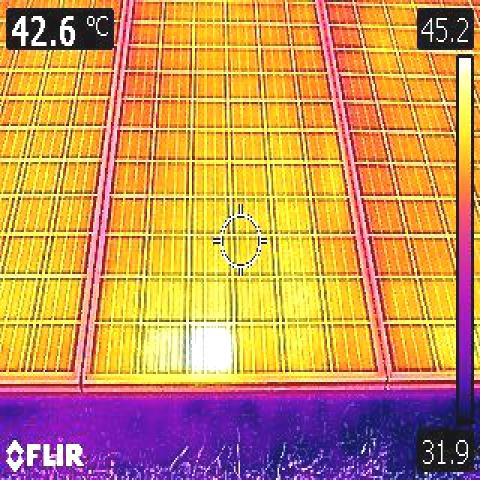fault: (187, 321, 233, 375)
